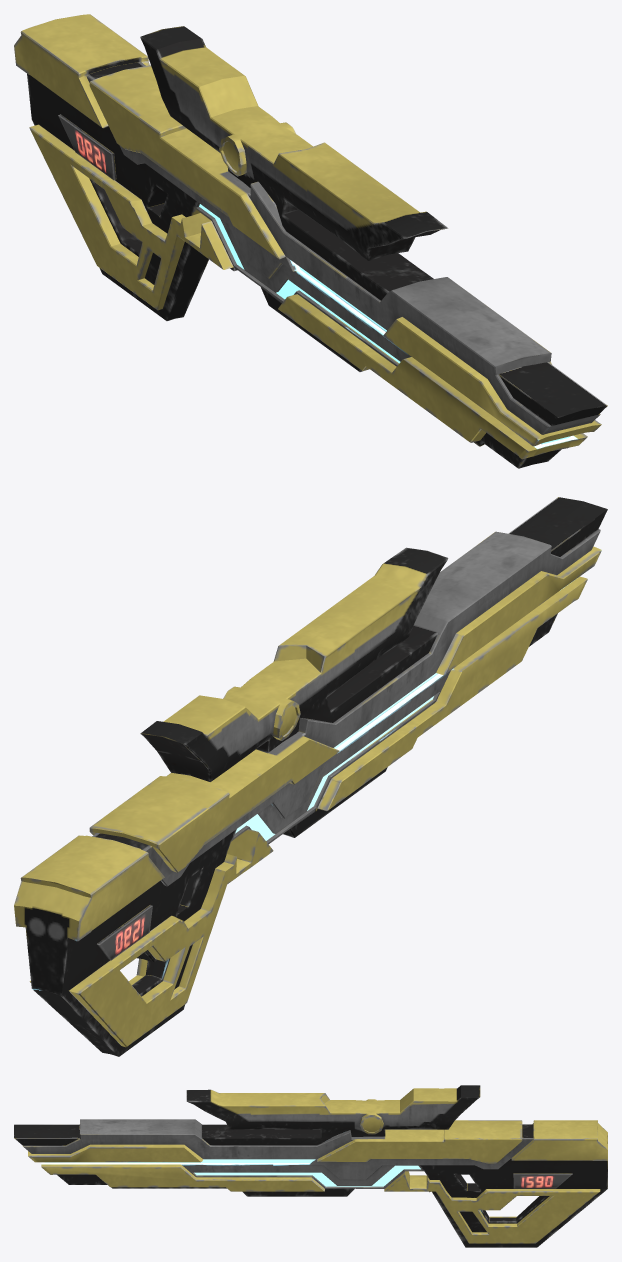
The model's file is scifigun.glb.
3 views of the same model, one above another, from view 1: azimuth 30°, elevation 25°; view 2: azimuth 150°, elevation 25°; view 3: azimuth 270°, elevation 25° (orthographic). The views are drawn at different scales.
Parts seen in each view (by area): view 1: scifi gun; view 2: scifi gun; view 3: scifi gun.
Boxes of the visible parts, box(x1,y1,x2,y2) form: scifi gun: box(14, 14, 607, 468); scifi gun: box(14, 497, 607, 1056); scifi gun: box(14, 1085, 607, 1247).
Size of the model in its own units: 0.1157 by 0.4413 by 1.53.
Materials: 1 (1 with a texture image).
